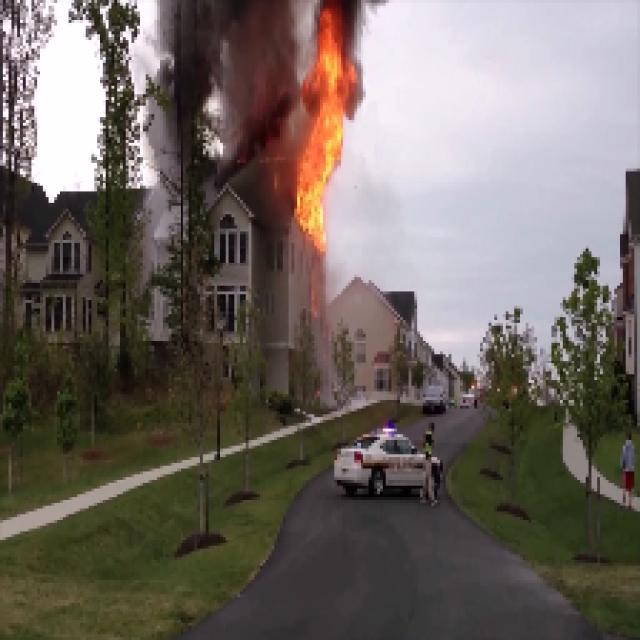fire: (299, 8, 353, 256)
smoke: (154, 1, 292, 227)
